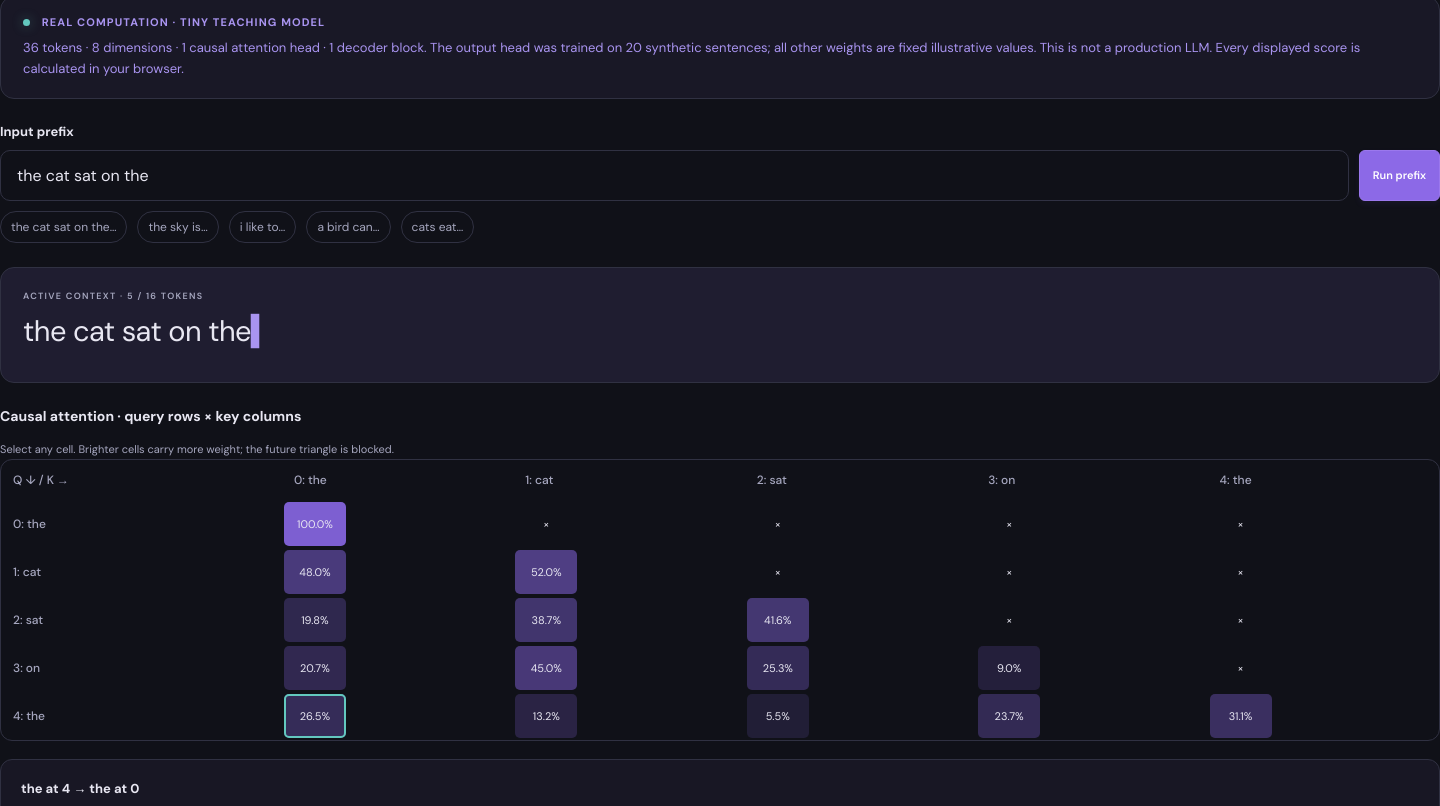
attention cell selection exposes a masked future score
Click the button named "Query 0, key 1: masked" at (546,524), box [515,502,577,546]
(page scrolled)
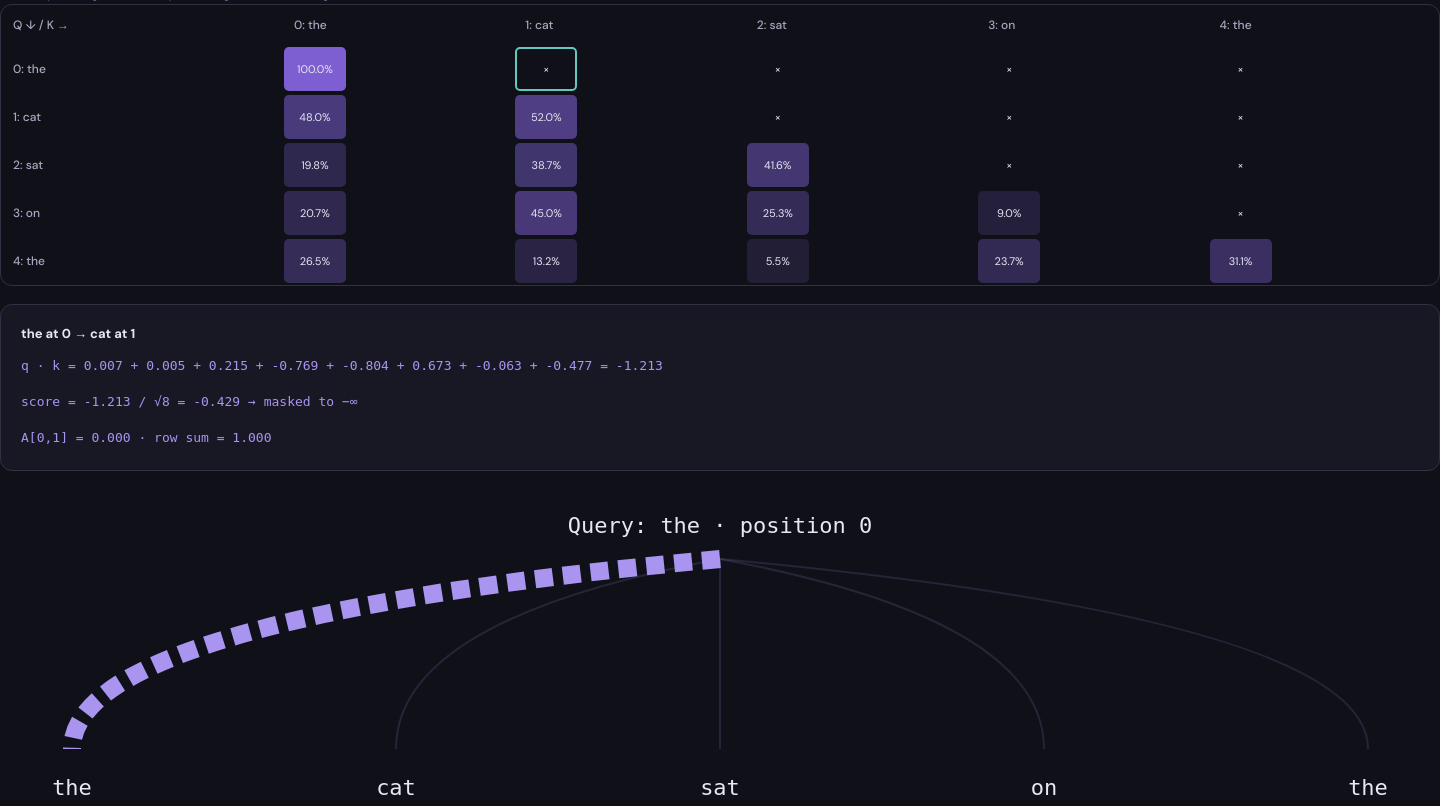
expect the text "score = -1.213 / √8 = -0.429 → masked to −∞" is shown: met, box [21,394,358,409]
